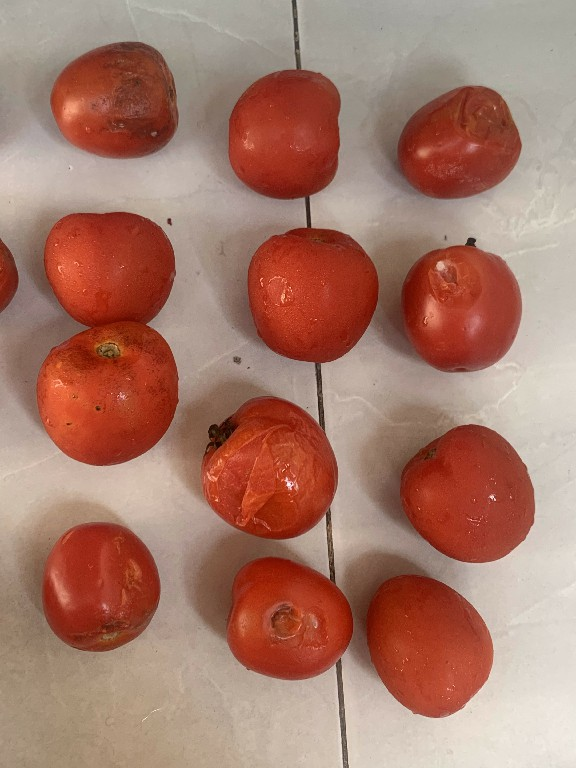NG: (29, 321, 182, 471), (196, 389, 346, 542), (392, 236, 536, 381), (34, 509, 166, 656), (45, 34, 192, 164), (386, 75, 528, 207), (222, 554, 354, 681)
OK: (239, 219, 389, 370), (392, 419, 545, 566), (363, 566, 501, 728), (218, 50, 349, 210), (33, 200, 192, 326)
